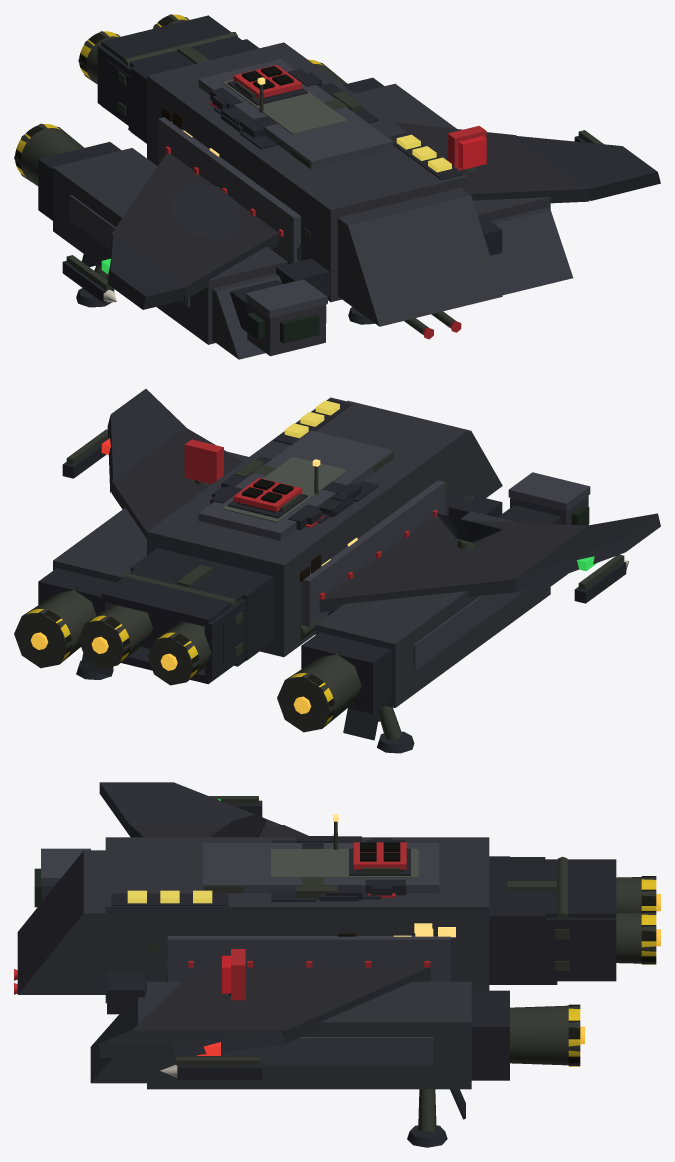
Rendered from enf._heavy-m.glb.
The picture shows the model from 3 angles, top to bottom: view 1: azimuth 30°, elevation 25°; view 2: azimuth 150°, elevation 25°; view 3: azimuth 270°, elevation 25°; orthographic projection. The views are drawn at different scales.
Visible parts, largest first — view 1: hullMain, hullForebody, outriggerLeft, wingInnerLeft, wingInnerRight, armourDorsal, armourFlankL, outriggerNoseRight, wingOuterRight, outriggerRight, wingOuterLeft, cShroudT (+20 smaller); view 2: hullMain, engineHousing (×4), wingInnerLeft, outriggerLeft, armourDorsal, wingInnerRight, armourFlankL, centralEngineBay, wingOuterLeft, cShroudT, outriggerRight, wingOuterRight (+21 smaller); view 3: hullMain, outriggerRight, wingInnerRight, hullForebody, armourFlankR, centralEngineBay, engineHousing (×3), armourDorsal, wingOuterLeft, armourPodRight, wingOuterRight, cShroudT (+17 smaller).
Boxes of the visible parts, x1,y1,x2,y2 form: hullMain: (147, 42, 467, 302); hullForebody: (337, 187, 502, 326); outriggerLeft: (53, 148, 287, 344); wingInnerLeft: (111, 153, 278, 299); wingInnerRight: (394, 122, 589, 203); armourDorsal: (198, 59, 393, 169); armourFlankL: (158, 117, 300, 262); outriggerNoseRight: (490, 207, 573, 295); wingOuterRight: (516, 136, 660, 200); outriggerRight: (354, 83, 550, 220); wingOuterLeft: (107, 234, 186, 309); cShroudT: (101, 15, 241, 67); hullMain: (147, 397, 467, 657); engineHousing (×4): (14, 589, 361, 732); wingInnerLeft: (319, 519, 587, 612); outriggerLeft: (315, 511, 550, 707); armourDorsal: (198, 430, 393, 540); wingInnerRight: (111, 427, 242, 538); armourFlankL: (302, 480, 445, 627); centralEngineBay: (130, 548, 273, 660); wingOuterLeft: (516, 513, 660, 592); cShroudT: (101, 569, 242, 627); outriggerRight: (53, 451, 248, 582); wingOuterRight: (107, 389, 186, 492); hullMain: (105, 837, 489, 1003); outriggerRight: (147, 981, 471, 1089); wingInnerRight: (131, 966, 430, 1044); hullForebody: (17, 850, 105, 994); armourFlankR: (167, 936, 450, 981); centralEngineBay: (489, 857, 545, 983); engineHousing (×3): (507, 877, 656, 1065); armourDorsal: (203, 843, 439, 892); wingOuterLeft: (99, 782, 281, 836); armourPodRight: (185, 1037, 433, 1064); wingOuterRight: (99, 1030, 284, 1057); cShroudT: (545, 859, 616, 917).
Size of the model in its own units: 4.28 by 1.74 by 4.38.
